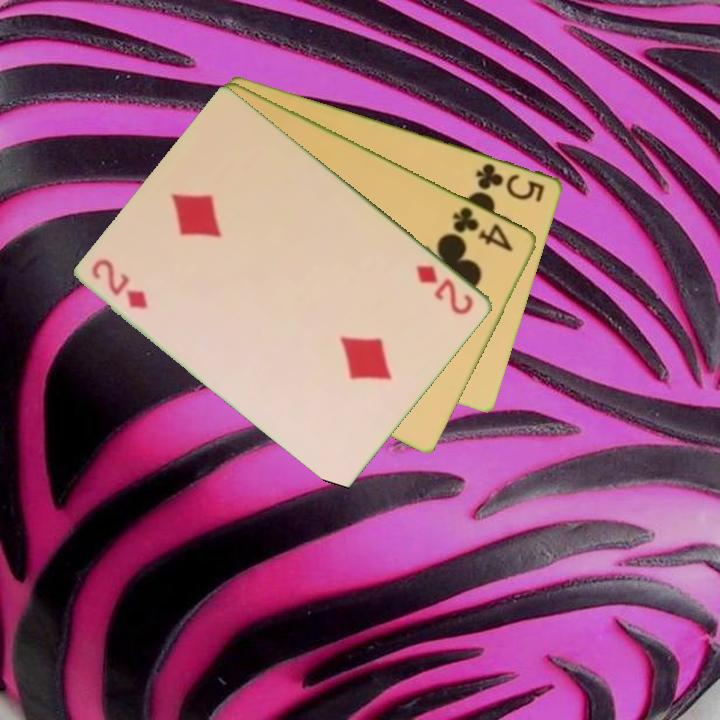2d: (413, 261, 477, 318), (88, 255, 152, 312)
4c: (449, 203, 517, 255)
5c: (473, 159, 548, 205)
